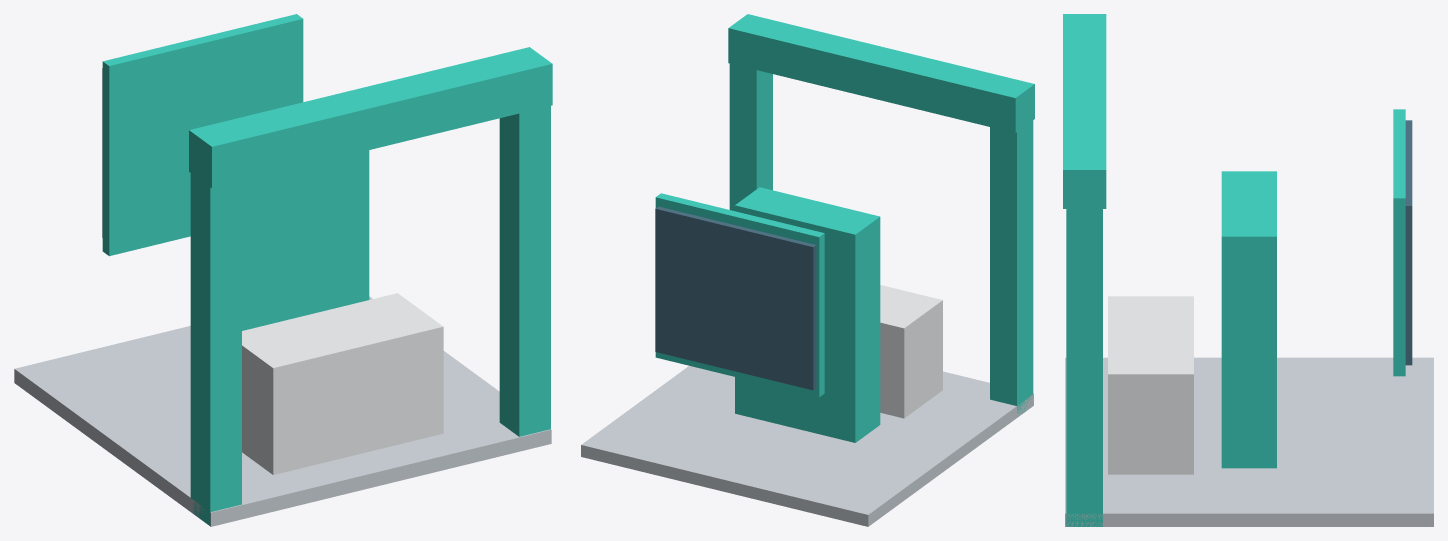
3 views of the same model, side by side, from view 1: azimuth 30°, elevation 25°; view 2: azimuth 150°, elevation 25°; view 3: azimuth 270°, elevation 25° (orthographic). The views are drawn at different scales.
Parts seen in each view (by area): view 1: Exhibition Booth Concept; view 2: Exhibition Booth Concept; view 3: Exhibition Booth Concept.
Part boxes in pixels (x1=…): Exhibition Booth Concept: x1=14, y1=14, x2=552, y2=526; Exhibition Booth Concept: x1=581, y1=14, x2=1034, y2=526; Exhibition Booth Concept: x1=1063, y1=14, x2=1433, y2=526.
Size of the model in its own units: 3 by 3.2 by 3.01.
